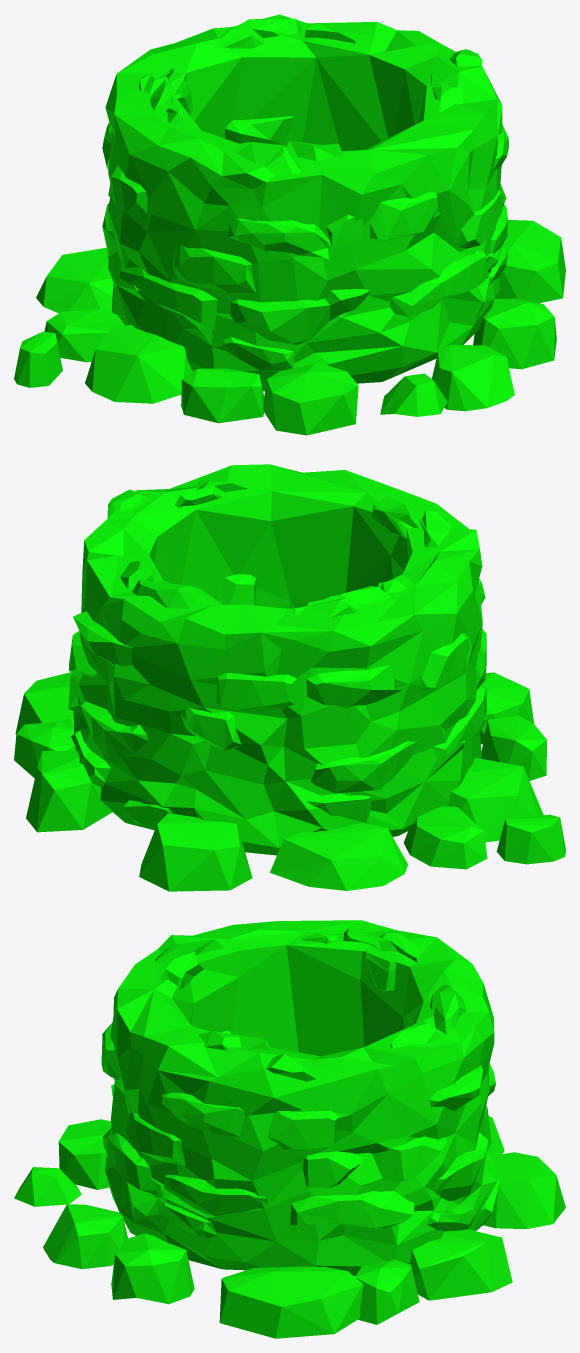
File: SM_Water_Well_C_Fantasy.fbx
The picture shows the model from 3 angles, top to bottom: view 1: azimuth 30°, elevation 25°; view 2: azimuth 150°, elevation 25°; view 3: azimuth 270°, elevation 25°; orthographic projection. The views are drawn at different scales.
Parts seen in each view (by area): view 1: water-well-c-fantasy; view 2: water-well-c-fantasy; view 3: water-well-c-fantasy.
Part boxes in pixels (x1,y1,x2,y2): water-well-c-fantasy: (14, 14, 565, 435); water-well-c-fantasy: (14, 464, 565, 891); water-well-c-fantasy: (14, 920, 565, 1338).
Bounding box in the file's own units: 2.19 × 0.9744 × 2.
